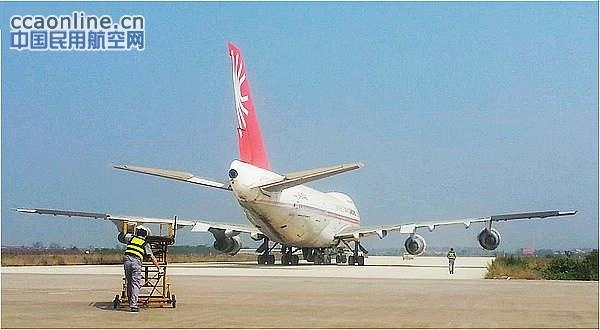airplane: (11, 42, 579, 265)
person: (108, 226, 170, 317)
